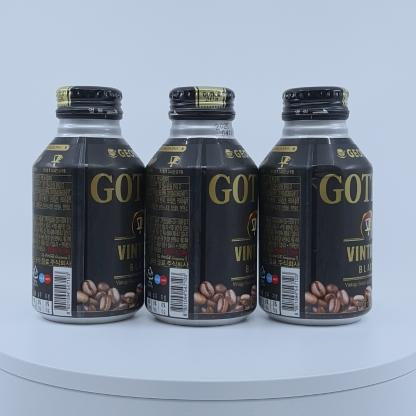---------------270ML: (257, 86, 373, 326), (144, 86, 259, 326), (31, 86, 145, 324)
